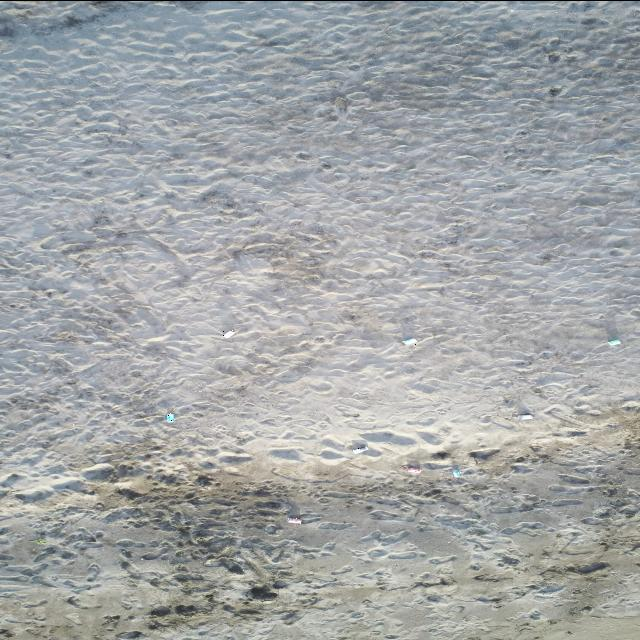Garbage: (400, 464, 420, 472), (221, 328, 235, 337), (352, 444, 367, 452), (288, 515, 300, 524), (518, 413, 532, 420), (608, 336, 620, 344), (404, 337, 416, 344), (452, 466, 460, 476), (33, 537, 44, 544), (166, 411, 173, 422)
